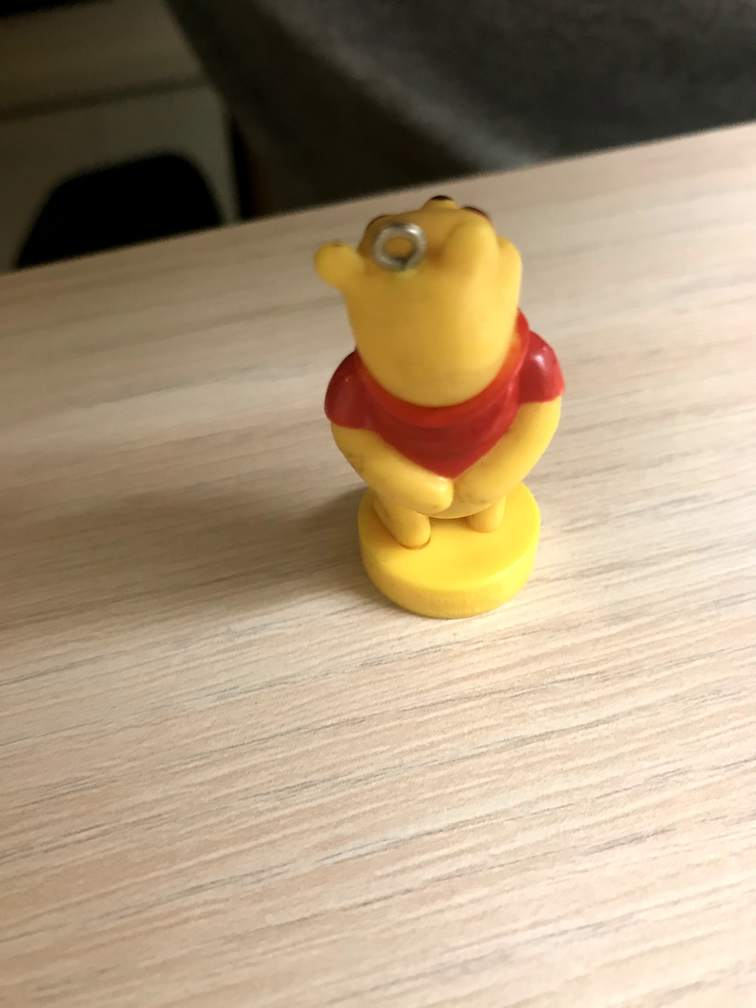Winnie: (345, 205, 540, 400)
